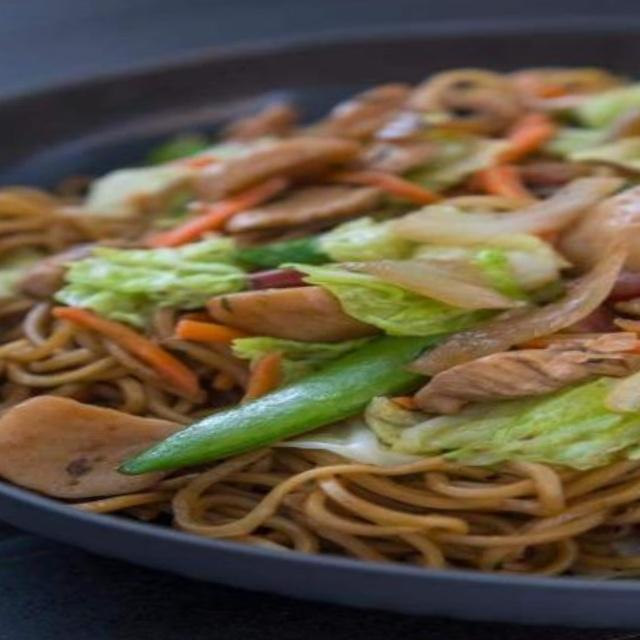pancit bihon: (0, 74, 639, 579)
